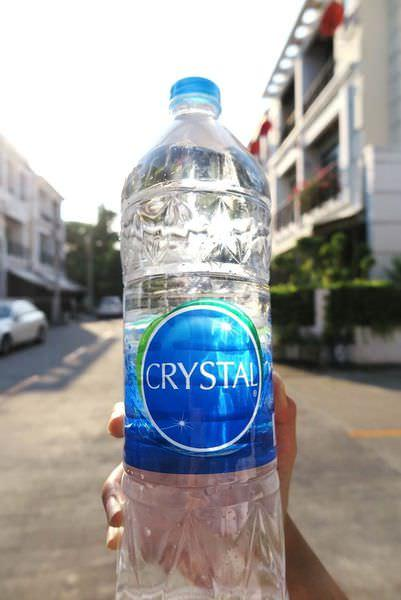plastic: (103, 76, 286, 599)
